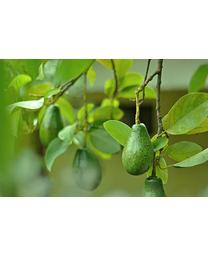avocado: (121, 124, 154, 176), (71, 147, 102, 192), (39, 106, 67, 149)
